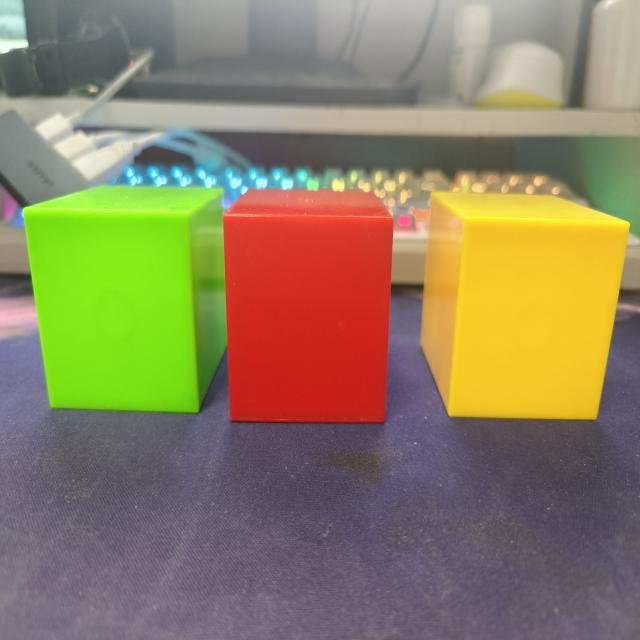green: (21, 186, 227, 416)
red: (223, 189, 395, 426)
yellow: (419, 189, 629, 423)
